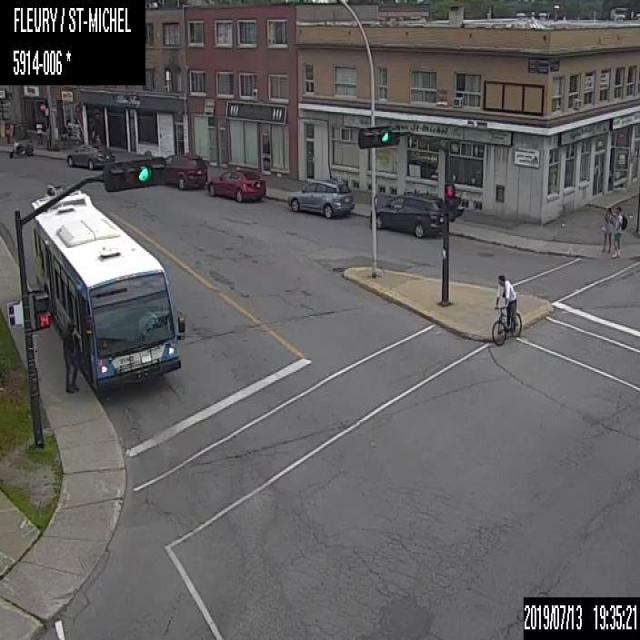bus: (29, 183, 185, 389)
cyclist: (491, 273, 523, 344)
pedestrian: (62, 322, 79, 394), (614, 205, 626, 259), (601, 204, 612, 255)
vehicle: (369, 192, 443, 239), (286, 176, 356, 219), (206, 164, 266, 201), (157, 148, 208, 190), (64, 138, 115, 170), (5, 136, 36, 157)
